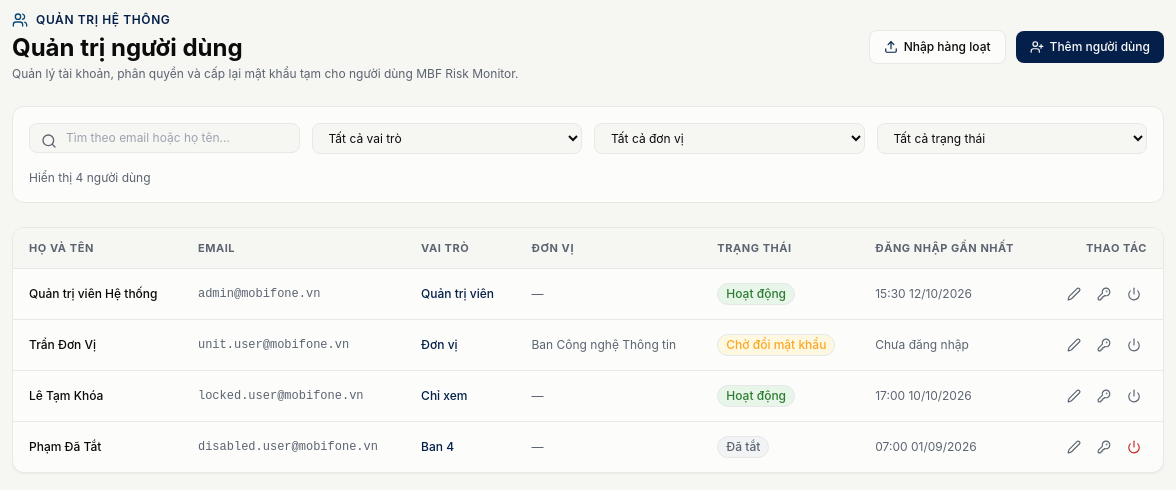
it: UsersView › filters users by search query and updates URL search parameter
Type "Trần" into the field with placeholder "Tìm theo email hoặc họ tên..." at (164,138), box [29,123,300,153]
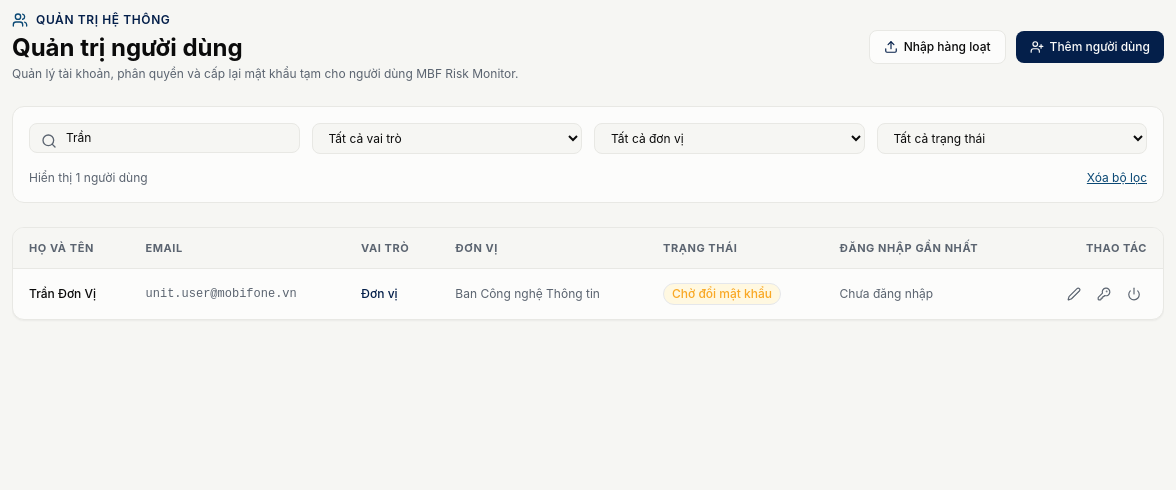
Expected: the text "Trần Đơn Vị" is shown, [13,268,130,319]
Now the text "Quản trị viên Hệ thống" is gone
